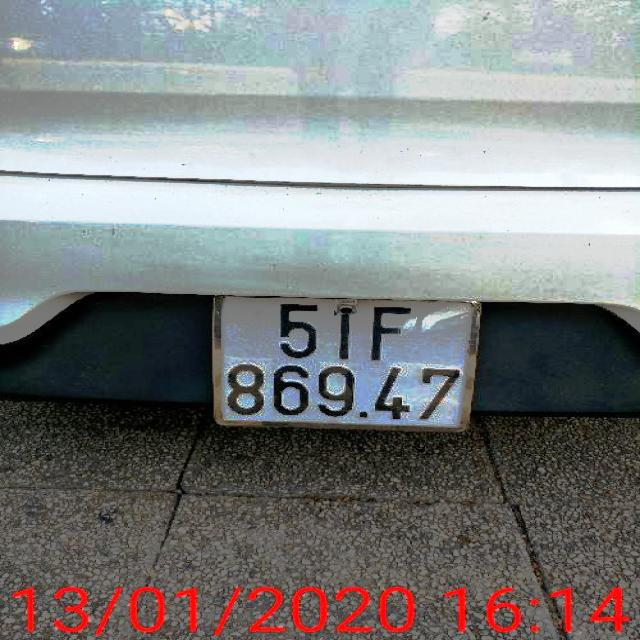license_plate: (221, 293, 481, 425)
